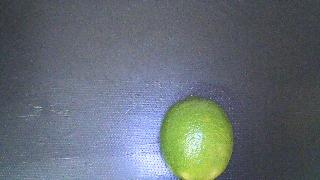EXPORTACION: (159, 95, 233, 180)
